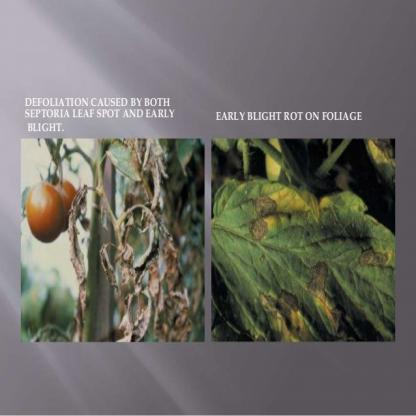Tomato Early blight leaf: (215, 175, 396, 338)
